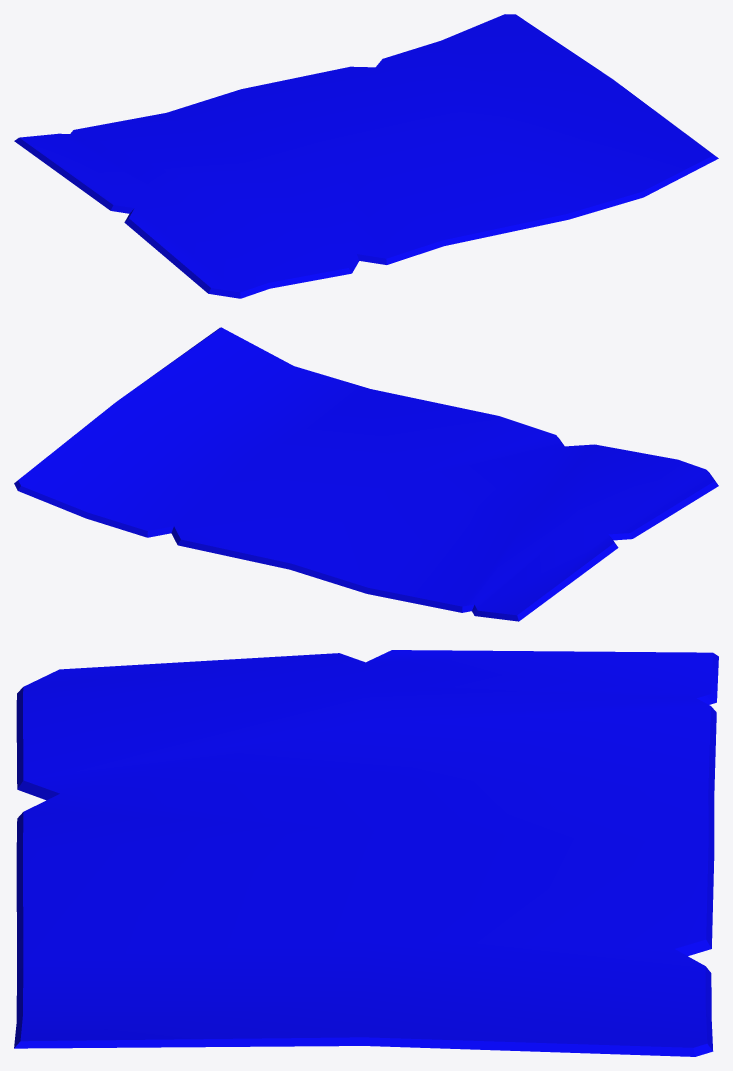
The model's file is CleaningRoom_Tablecloth.fbx.
The picture shows the model from 3 angles, top to bottom: view 1: azimuth 30°, elevation 25°; view 2: azimuth 150°, elevation 25°; view 3: azimuth 270°, elevation 25°; orthographic projection. The views are drawn at different scales.
Parts seen in each view (by area): view 1: CleaningRoom_TableCloth; view 2: CleaningRoom_TableCloth; view 3: CleaningRoom_TableCloth.
Part boxes in pixels (x1=…): CleaningRoom_TableCloth: x1=14, y1=14, x2=718, y2=298; CleaningRoom_TableCloth: x1=14, y1=327, x2=718, y2=621; CleaningRoom_TableCloth: x1=14, y1=650, x2=718, y2=1056.
Bounding box in the file's own units: 357 × 21.57 × 257.
